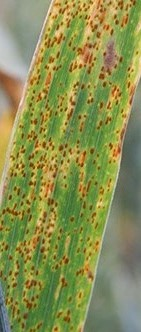Leaf Rust: (10, 5, 139, 283)
